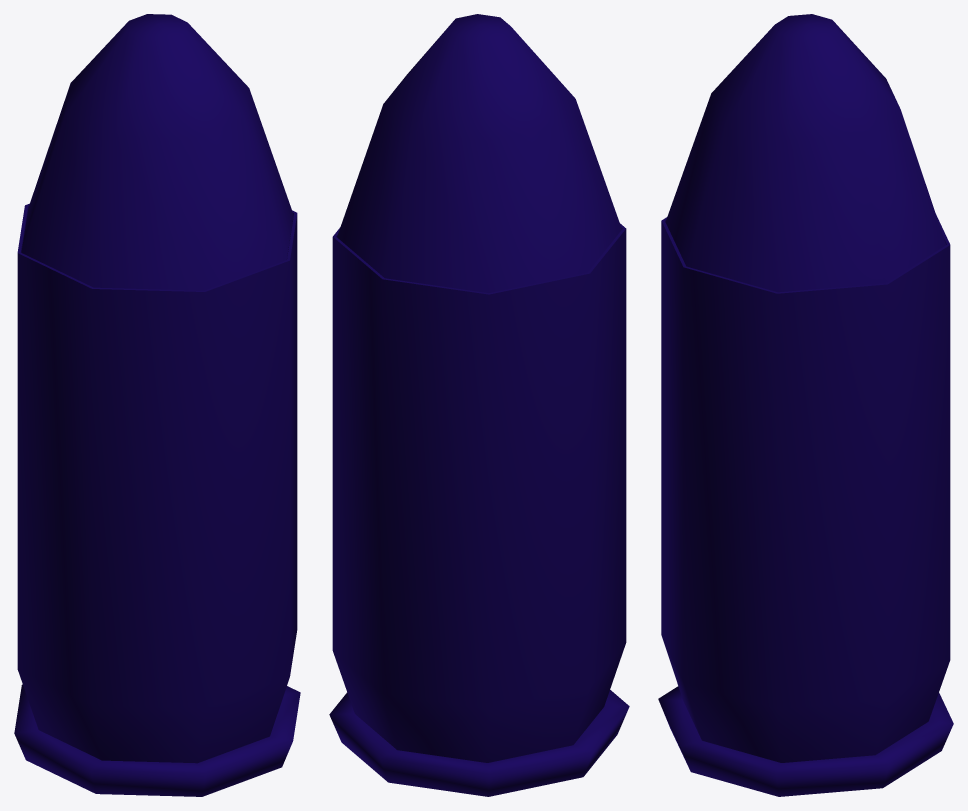
File: Bullet_045_LOD0.FBX
3 views of the same model, side by side, from view 1: azimuth 30°, elevation 25°; view 2: azimuth 150°, elevation 25°; view 3: azimuth 270°, elevation 25° (orthographic).
Visible parts, largest first — view 1: Shell_LOD0, Bullet_LOD0; view 2: Shell_LOD0, Bullet_LOD0; view 3: Shell_LOD0, Bullet_LOD0.
Boxes of the visible parts, x1,y1,x2,y2 form: Shell_LOD0: (14, 203, 300, 796); Bullet_LOD0: (21, 14, 293, 290); Shell_LOD0: (329, 223, 629, 796); Bullet_LOD0: (337, 14, 621, 292); Shell_LOD0: (658, 214, 953, 796); Bullet_LOD0: (665, 14, 945, 292).
Bounding box in the file's own units: 1.16 × 3.1 × 1.16.
